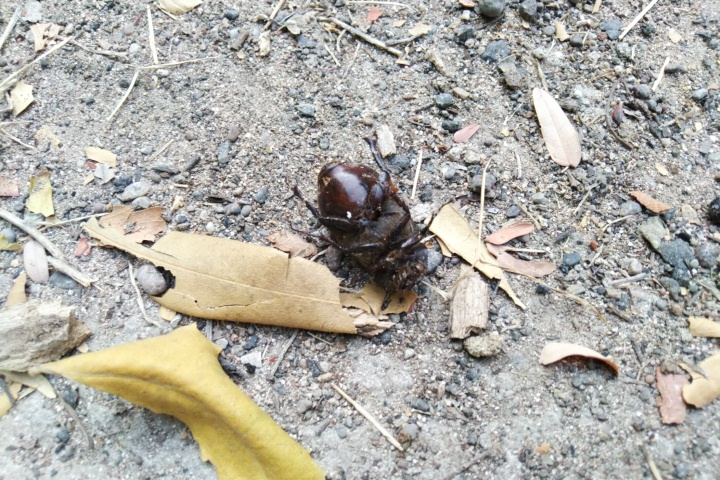INS-A: (278, 132, 470, 320)
